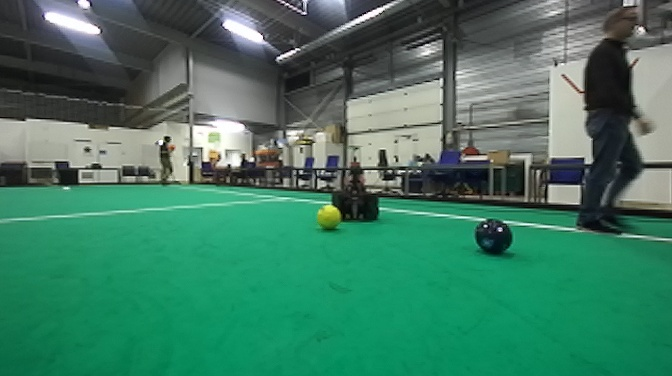ball: (470, 215, 515, 256), (315, 202, 342, 232)
human: (561, 1, 659, 243)
robot: (324, 133, 384, 225)
